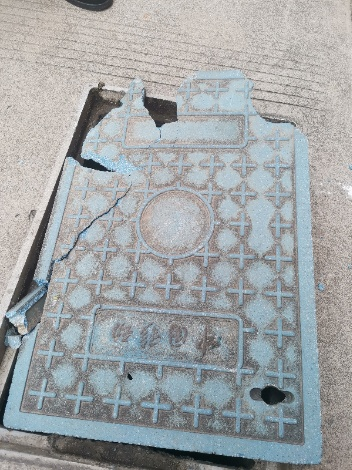broke: (1, 70, 326, 470)
